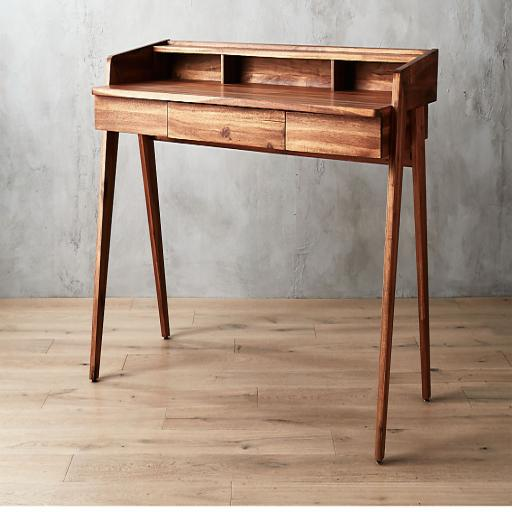desk: (89, 40, 438, 464)
wall: (0, 0, 512, 297)
